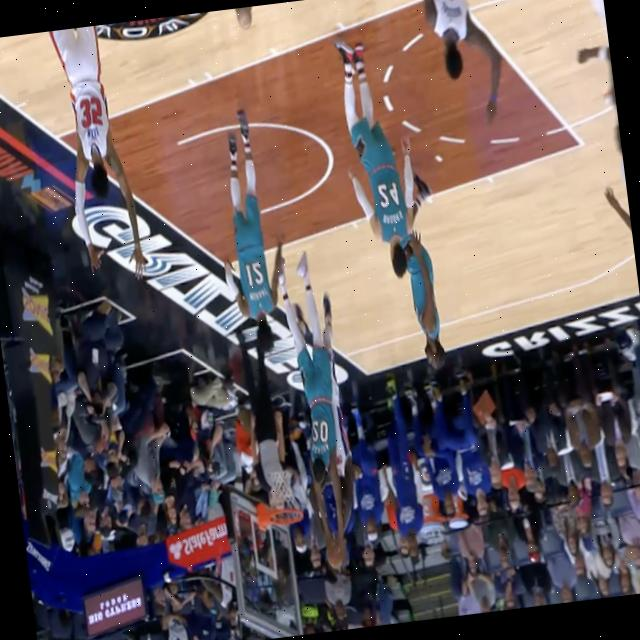foul: (277, 238, 369, 570)
no foul: (332, 40, 461, 378), (202, 122, 292, 356)
